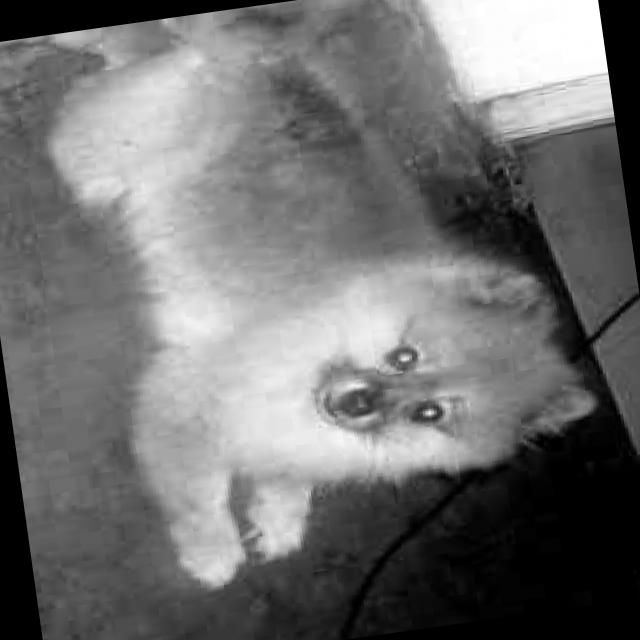laying down: (19, 0, 634, 608)
